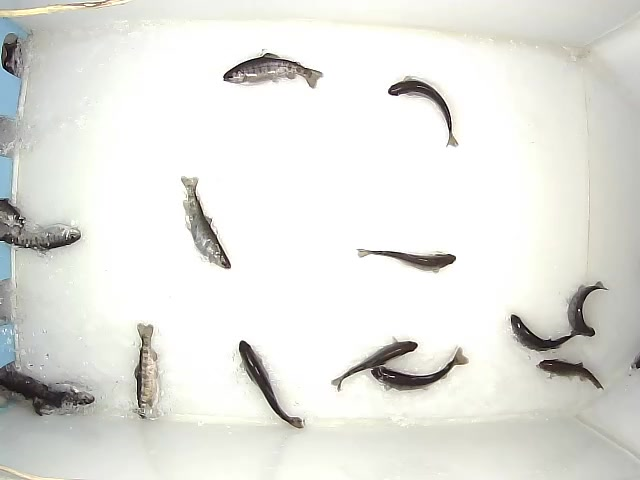fish: (238, 339, 306, 431), (387, 75, 459, 149), (179, 174, 233, 271), (329, 335, 419, 392), (371, 348, 469, 392), (222, 52, 325, 91), (509, 313, 583, 354), (1, 222, 83, 256), (355, 248, 457, 275), (133, 321, 160, 420), (566, 278, 610, 337), (536, 359, 606, 393), (32, 383, 96, 419)
